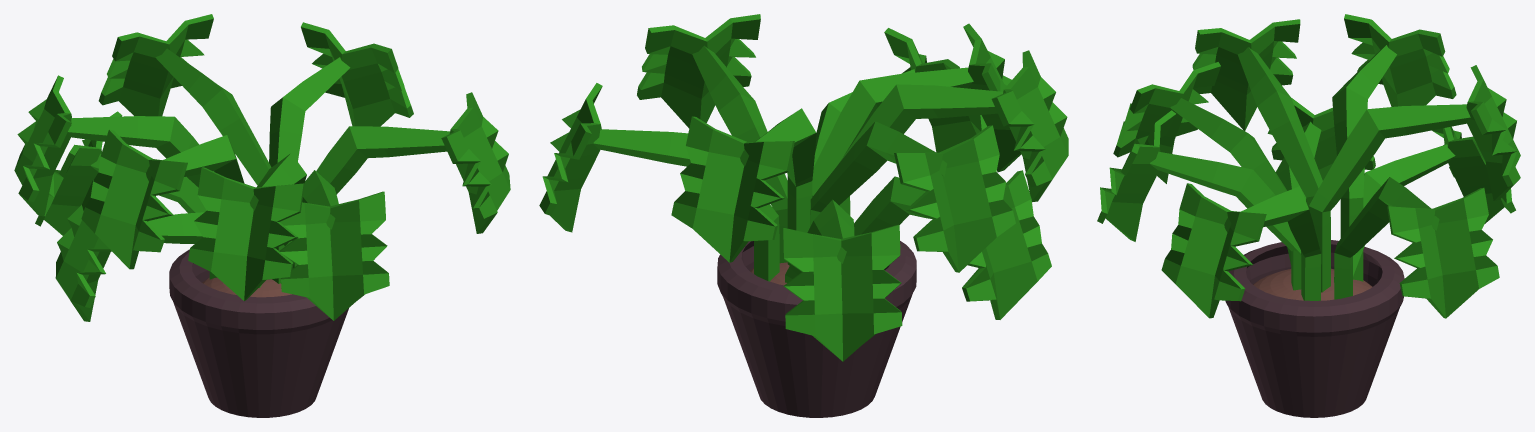
File: MonsteraBig.fbx
3 views of the same model, side by side, from view 1: azimuth 30°, elevation 25°; view 2: azimuth 150°, elevation 25°; view 3: azimuth 270°, elevation 25° (orthographic). The views are drawn at different scales.
Parts seen in each view (by area): view 1: MonsteraBig; view 2: MonsteraBig; view 3: MonsteraBig.
Boxes of the visible parts, <box> form: MonsteraBig: <box>14,14,510,417</box>; MonsteraBig: <box>539,14,1068,417</box>; MonsteraBig: <box>1097,14,1520,417</box>.
Bounding box in the file's own units: 266 × 241 × 190.
